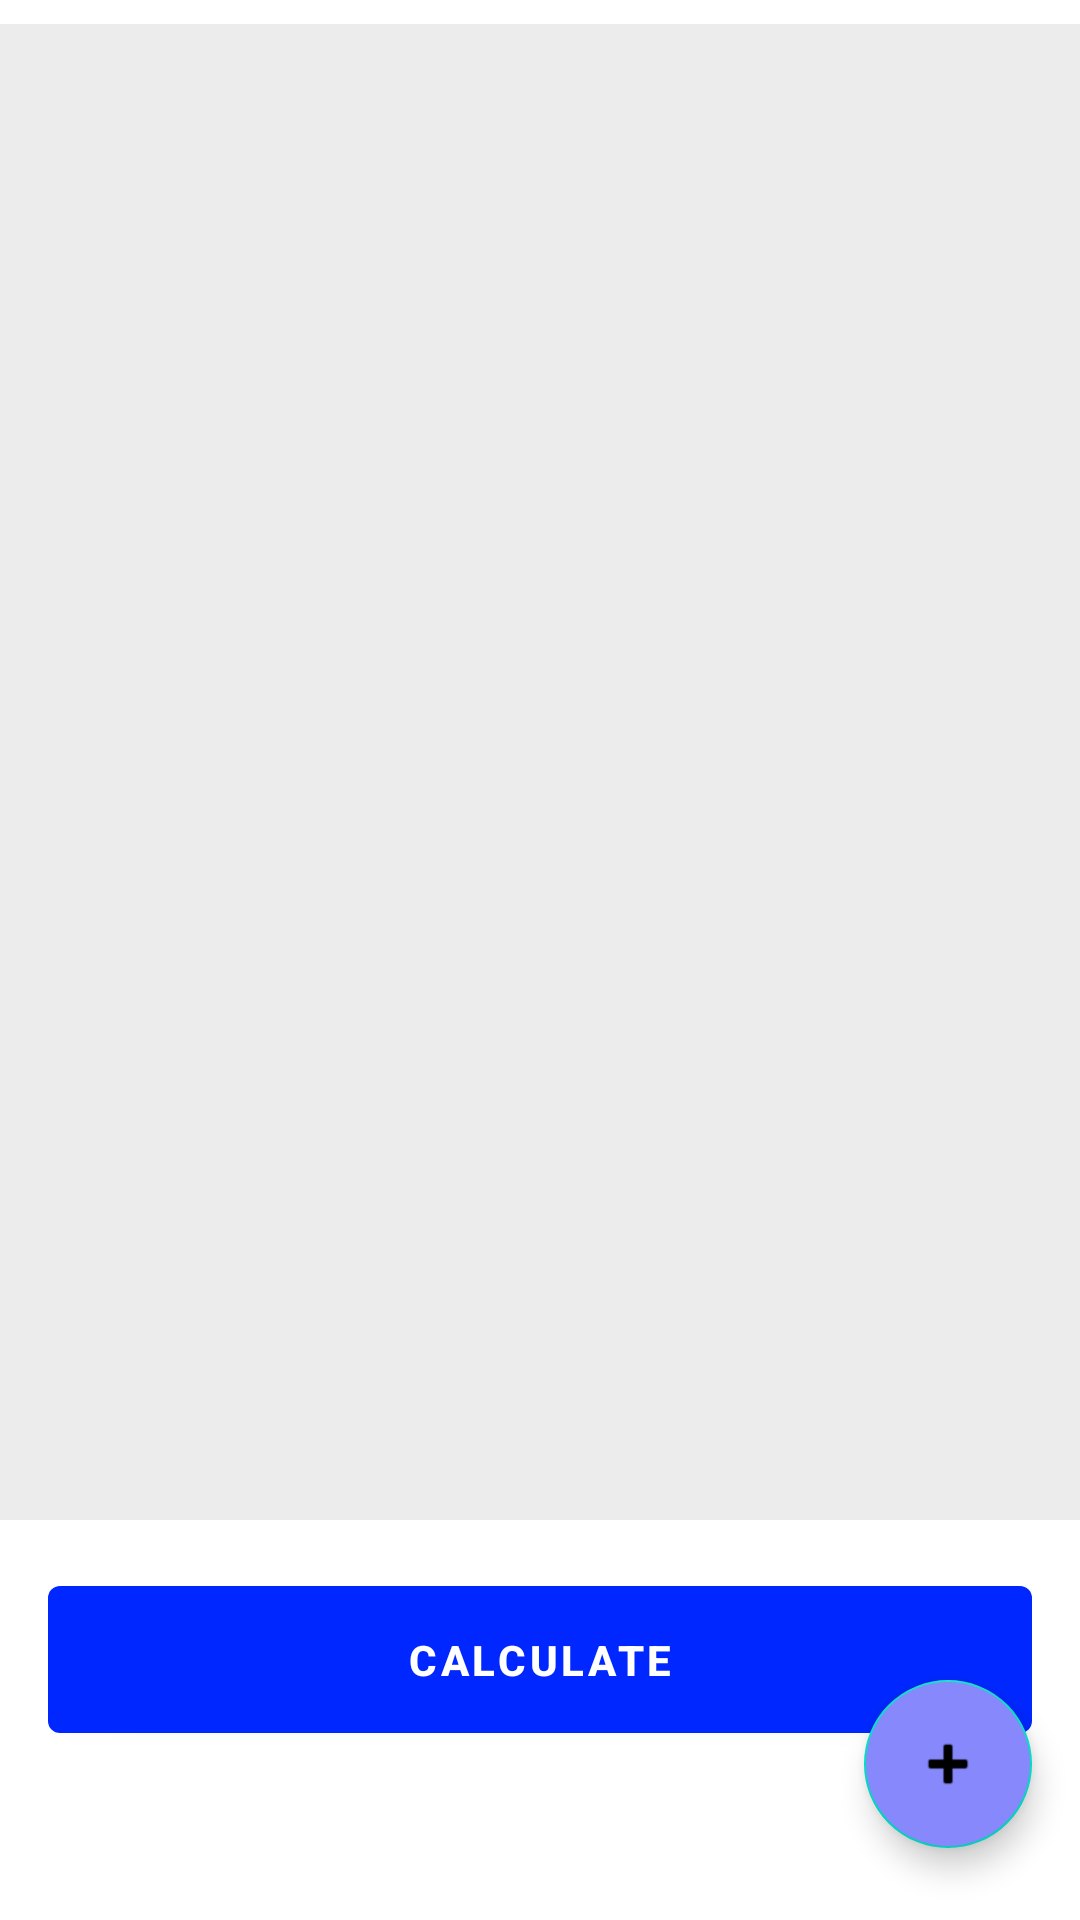

Point at icon controls on the screen. Image size 1080x1920, points as [x,y].
add: [948,1764]
